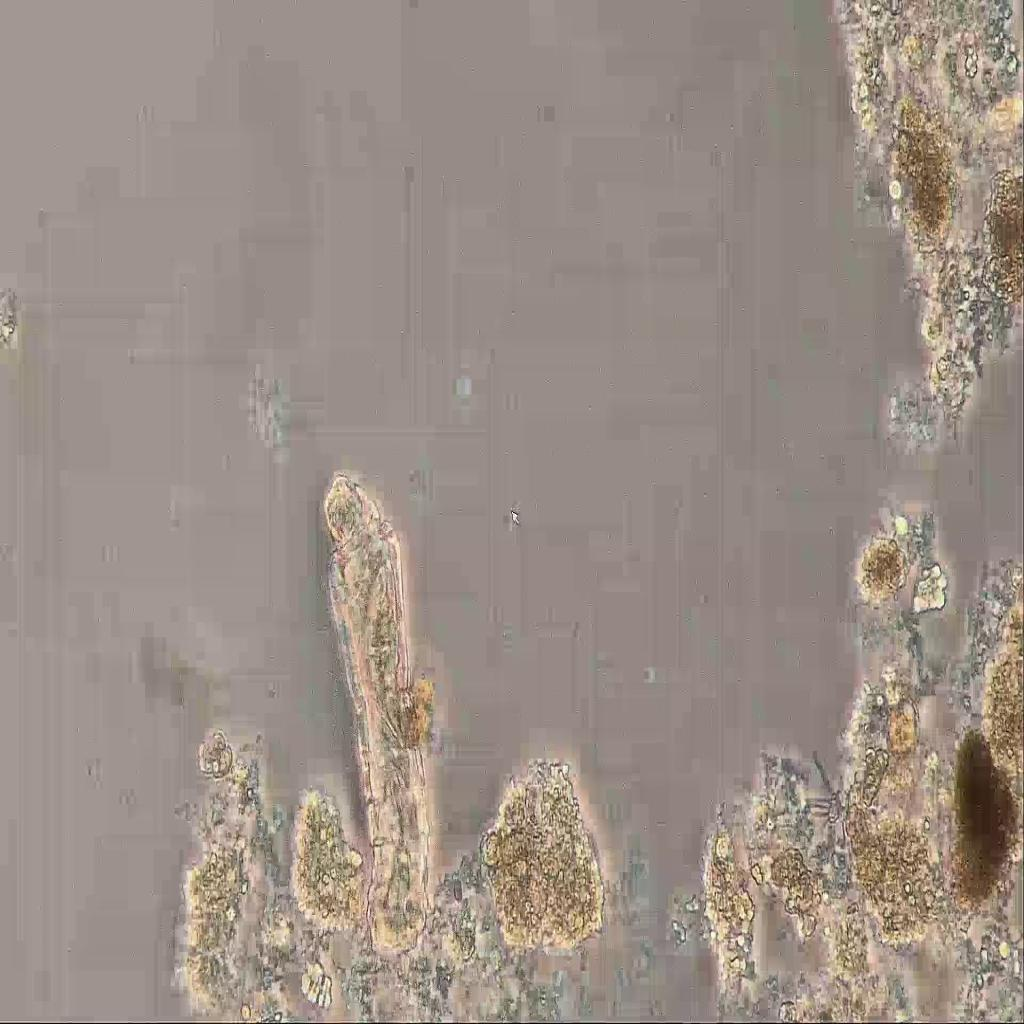Rotatoria: (323, 466, 458, 942)
